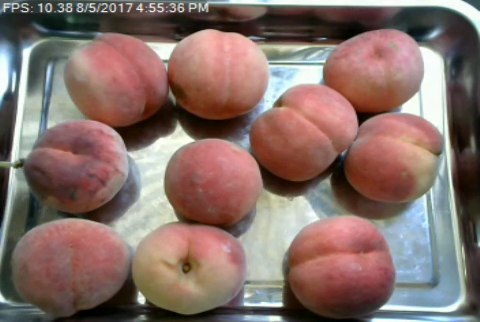Peach: (7, 216, 128, 317), (284, 215, 395, 319), (249, 83, 358, 182), (135, 222, 245, 316), (63, 32, 168, 127), (24, 117, 127, 213), (342, 112, 443, 203), (168, 29, 268, 120), (322, 25, 424, 114), (163, 137, 262, 226)
